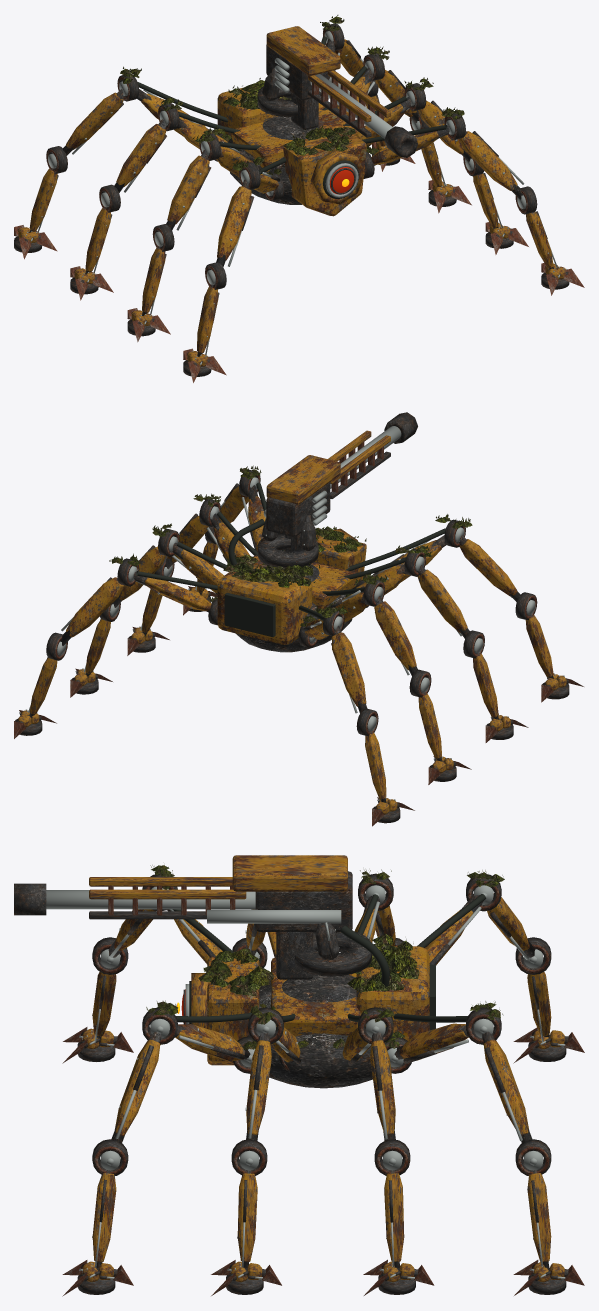
File: wall-sniper-spider.glb
3 views of the same model, one above another, from view 1: azimuth 30°, elevation 25°; view 2: azimuth 150°, elevation 25°; view 3: azimuth 270°, elevation 25° (orthographic). The views are drawn at different scales.
Visible parts, largest first — view 1: Sniper_rifle_Mesh, Spider_head_Mesh, Spider_body_Mesh, Spider_-1_3_segment_1_Mesh, Spider_1_3_segment_1_Mesh, Spider_-1_2_segment_1_Mesh, Spider_-1_1_segment_1_Mesh, Spider_-1_0_segment_1_Mesh, Spider_-1_3_segment_2_Mesh, Spider_-1_2_segment_2_Mesh, Spider_-1_1_segment_2_Mesh, Spider_-1_0_segment_2_Mesh (+20 smaller); view 2: Spider_body_Mesh, Sniper_rifle_Mesh, Spider_-1_0_segment_1_Mesh, Spider_1_0_segment_1_Mesh, Spider_-1_1_segment_1_Mesh, Spider_-1_2_segment_1_Mesh, Sniper_gimbal_Mesh, Spider_-1_3_segment_1_Mesh, Spider_head_Mesh, Spider_-1_0_segment_2_Mesh, Spider_-1_1_segment_2_Mesh, Spider_1_1_segment_1_Mesh (+21 smaller); view 3: Sniper_rifle_Mesh, Spider_body_Mesh, Spider_head_Mesh, Spider_1_3_segment_1_Mesh, Spider_1_0_segment_1_Mesh, Spider_1_2_segment_1_Mesh, Spider_1_1_segment_1_Mesh, Sniper_gimbal_Mesh, Spider_1_0_segment_2_Mesh, Spider_1_3_segment_2_Mesh, Spider_1_1_segment_2_Mesh, Spider_1_2_segment_2_Mesh (+18 smaller).
Part boxes in pixels (<box>): Sniper_rifle_Mesh: <box>266,26,417,157</box>; Spider_head_Mesh: <box>283,126,366,216</box>; Spider_body_Mesh: <box>217,78,357,204</box>; Spider_-1_3_segment_1_Mesh: <box>216,156,265,266</box>; Spider_1_3_segment_1_Mesh: <box>441,107,524,199</box>; Spider_-1_2_segment_1_Mesh: <box>166,125,225,230</box>; Spider_-1_1_segment_1_Mesh: <box>114,97,182,192</box>; Spider_-1_0_segment_1_Mesh: <box>62,66,141,155</box>; Spider_-1_3_segment_2_Mesh: <box>197,262,226,356</box>; Spider_-1_2_segment_2_Mesh: <box>142,224,174,315</box>; Spider_-1_1_segment_2_Mesh: <box>85,184,120,274</box>; Spider_-1_0_segment_2_Mesh: <box>29,146,67,232</box>; Spider_body_Mesh: <box>217,554,356,652</box>; Sniper_rifle_Mesh: <box>228,412,417,565</box>; Spider_-1_0_segment_1_Mesh: <box>313,604,367,713</box>; Spider_1_0_segment_1_Mesh: <box>60,553,140,645</box>; Spider_-1_1_segment_1_Mesh: <box>362,571,417,676</box>; Spider_-1_2_segment_1_Mesh: <box>395,545,469,638</box>; Sniper_gimbal_Mesh: <box>257,514,318,568</box>; Spider_-1_3_segment_1_Mesh: <box>435,514,520,602</box>; Spider_head_Mesh: <box>284,526,366,586</box>; Spider_-1_0_segment_2_Mesh: <box>356,708,386,802</box>; Spider_-1_1_segment_2_Mesh: <box>409,669,442,761</box>; Spider_1_1_segment_1_Mesh: <box>112,523,179,607</box>; Sniper_rifle_Mesh: <box>14,855,389,991</box>; Spider_body_Mesh: <box>248,932,435,1088</box>; Spider_head_Mesh: <box>176,948,275,1065</box>; Spider_1_3_segment_1_Mesh: <box>111,1000,178,1142</box>; Spider_1_0_segment_1_Mesh: <box>466,1001,532,1142</box>; Spider_1_2_segment_1_Mesh: <box>245,1001,283,1140</box>; Spider_1_1_segment_1_Mesh: <box>358,1007,395,1140</box>; Sniper_gimbal_Mesh: <box>295,922,371,976</box>; Spider_1_0_segment_2_Mesh: <box>515,1139,551,1267</box>; Spider_1_3_segment_2_Mesh: <box>92,1139,128,1267</box>; Spider_1_1_segment_2_Mesh: <box>374,1139,410,1267</box>; Spider_1_2_segment_2_Mesh: <box>231,1139,267,1267</box>.
Bounding box in the file's own units: 3.13 × 1.75 × 2.96.
Materials: 8 (4 with a texture image).
